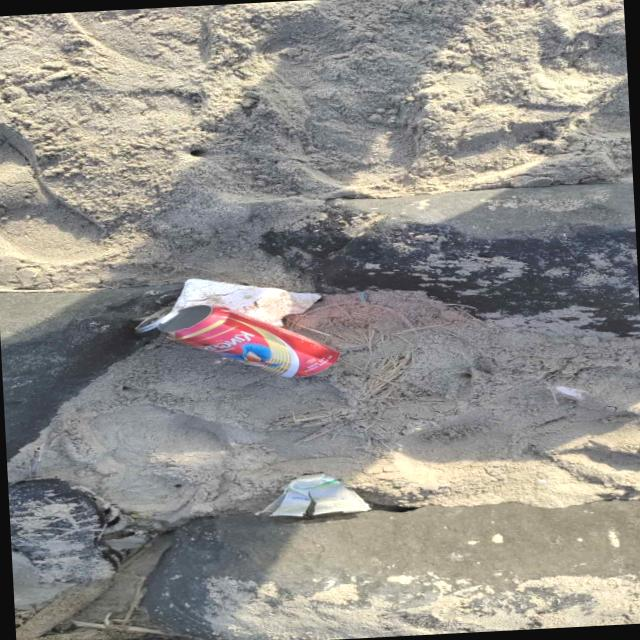hop_nhua: (258, 474, 370, 517)
kim_loai: (135, 305, 340, 378)
xop: (172, 278, 320, 326)
